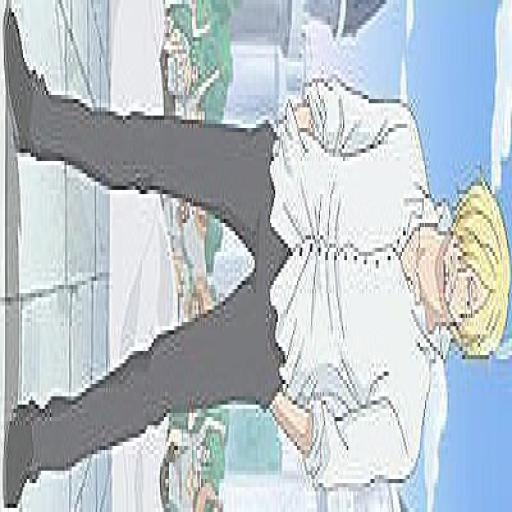sanji: (0, 0, 511, 508)
